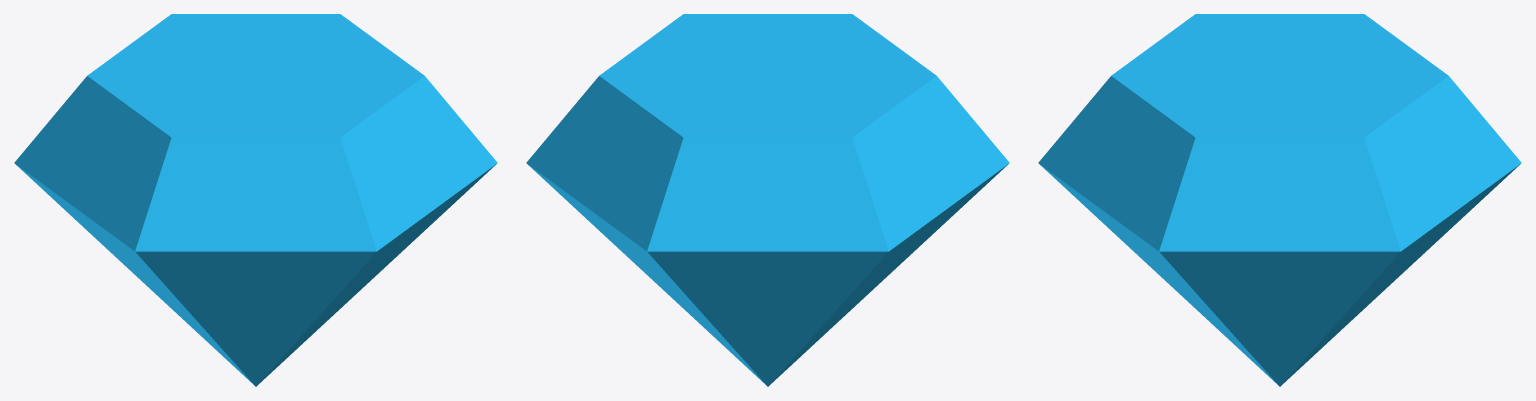
The model's file is diamond.fbx.
The picture shows the model from 3 angles, left to right: view 1: azimuth 30°, elevation 25°; view 2: azimuth 150°, elevation 25°; view 3: azimuth 270°, elevation 25°; orthographic projection.
Visible parts, largest first — view 1: Cone; view 2: Cone; view 3: Cone.
Part boxes in pixels (x1,y1,x2,y2): Cone: (14,14,497,386); Cone: (526,14,1009,386); Cone: (1038,14,1521,386).
Bounding box in the file's own units: 40.39 × 33.1 × 46.63.
